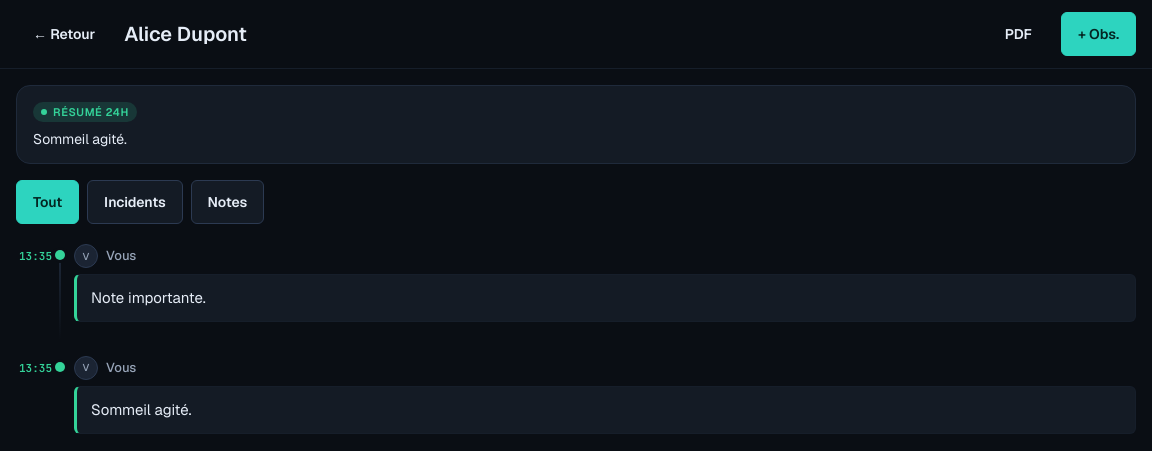
Test: FeedPage › Notes filter shows only observations that have note_text
expect the text "Note importante." is shown: met, box [91, 288, 206, 307]
What coordinates should you click on to do the following:
click the button "Notes"
I would click on:
 (227, 202)
Its box is [191, 180, 264, 224].
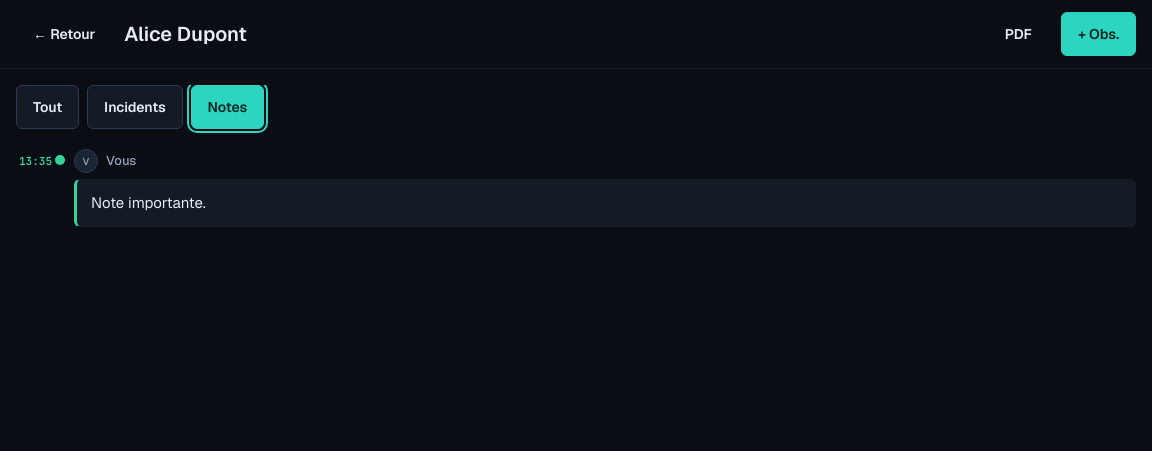
expect the text "Note importante." is shown: met, box [91, 193, 206, 212]
expect the text "Sommeil agité" is gone: met
